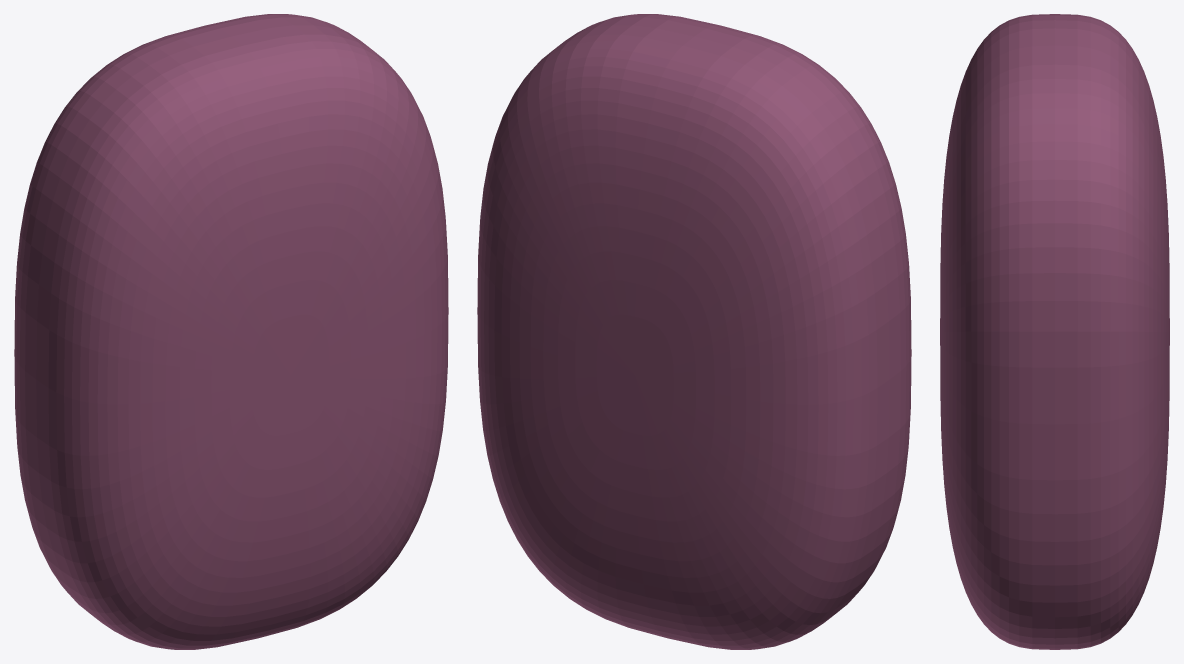
The model's file is spleen.glb.
3 views of the same model, side by side, from view 1: azimuth 30°, elevation 25°; view 2: azimuth 150°, elevation 25°; view 3: azimuth 270°, elevation 25° (orthographic). The views are drawn at different scales.
Visible parts, largest first — view 1: spleen; view 2: spleen; view 3: spleen.
Part boxes in pixels (bbox=[...]): spleen: bbox=[14, 14, 448, 649]; spleen: bbox=[477, 14, 911, 649]; spleen: bbox=[940, 14, 1169, 649].
Size of the model in its own units: 0.076 by 0.11 by 0.04.
